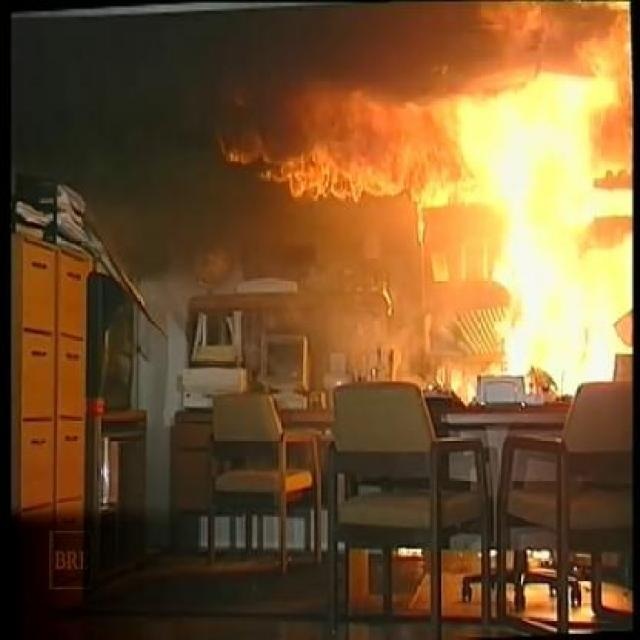fire: (474, 80, 614, 349), (228, 92, 463, 214)
smoke: (130, 212, 207, 266), (290, 228, 373, 278)
